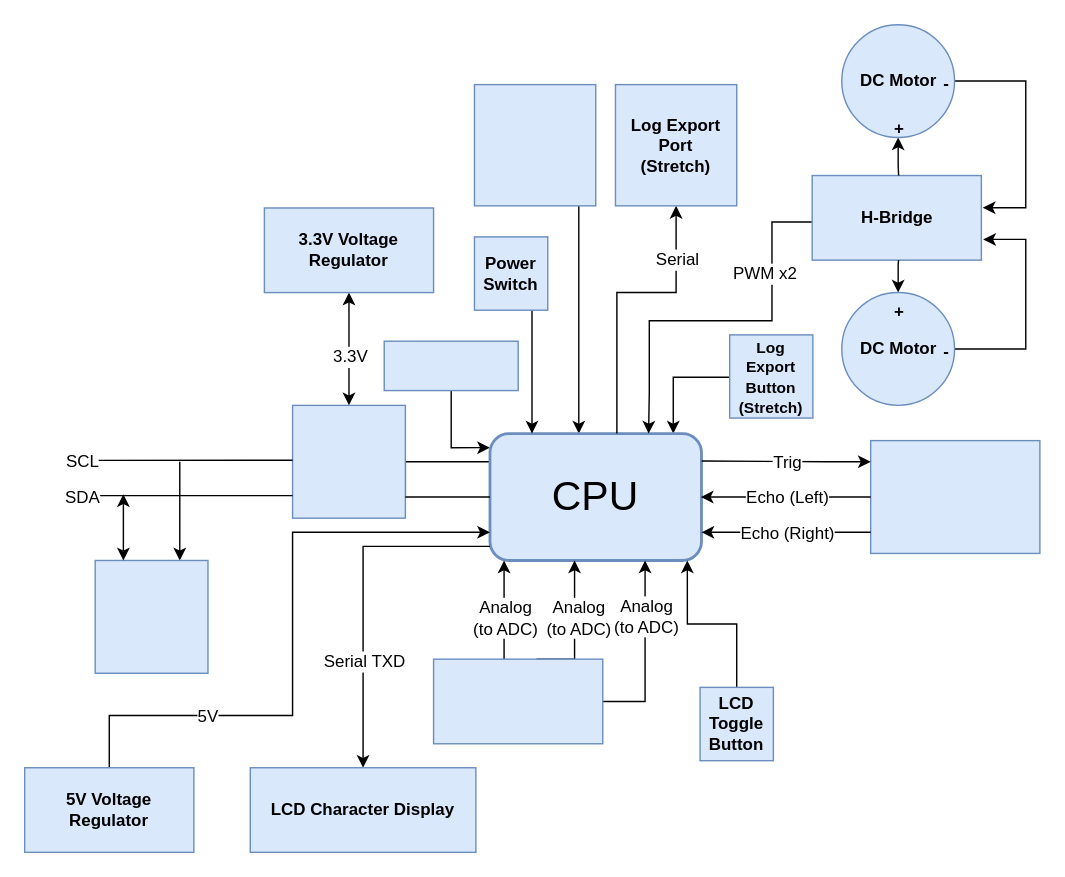
Image size: 1065x877. Some labels were removed from this diagram. The shapes that lost their labels are listed below. From the top down, each one's box as (x1, y1, x2, y2) in pixels, then its label:
(473, 83, 596, 206): JTAG Programming Port
(383, 340, 518, 391): Crystal Oscillator
(291, 404, 405, 518): Level Shifter
(869, 439, 1040, 553): Ultrasonic Distance Sensor x2
(94, 559, 208, 673): IMU
(432, 658, 603, 744): IR Sensor x3
